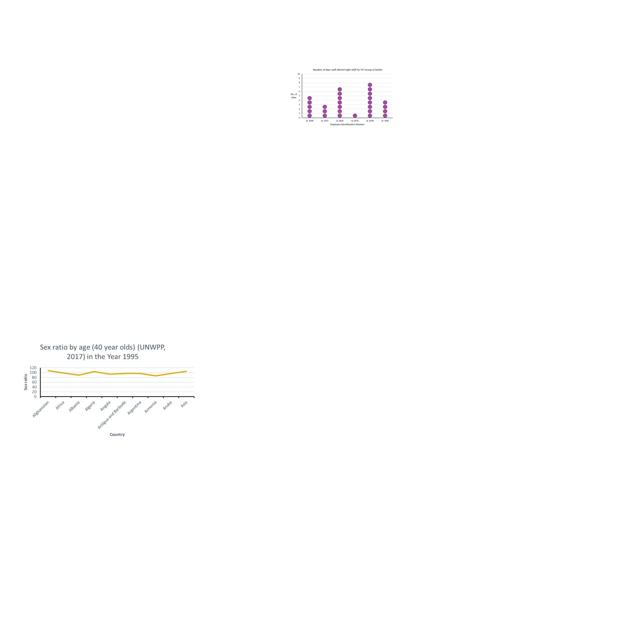Graph: (20, 341, 196, 439), (287, 67, 395, 128)
